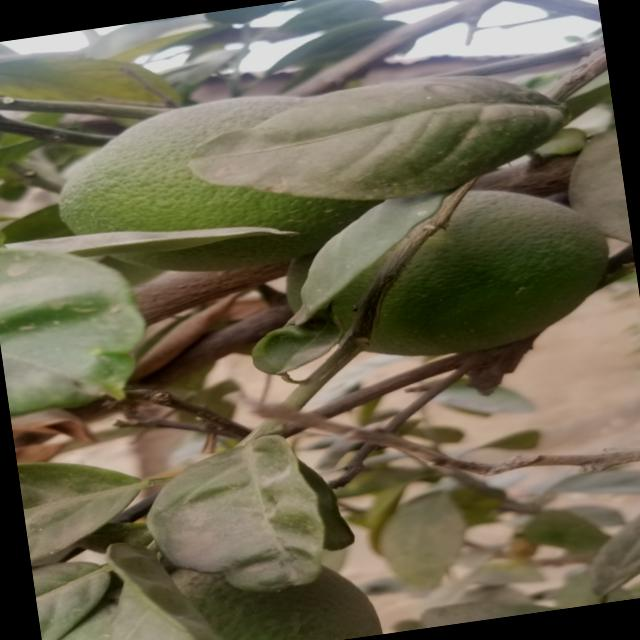Unripe: (48, 78, 383, 296), (302, 172, 628, 372)
